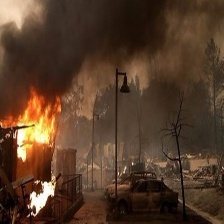fire: (4, 89, 66, 160), (28, 175, 57, 219)
smoke: (1, 1, 219, 89)
